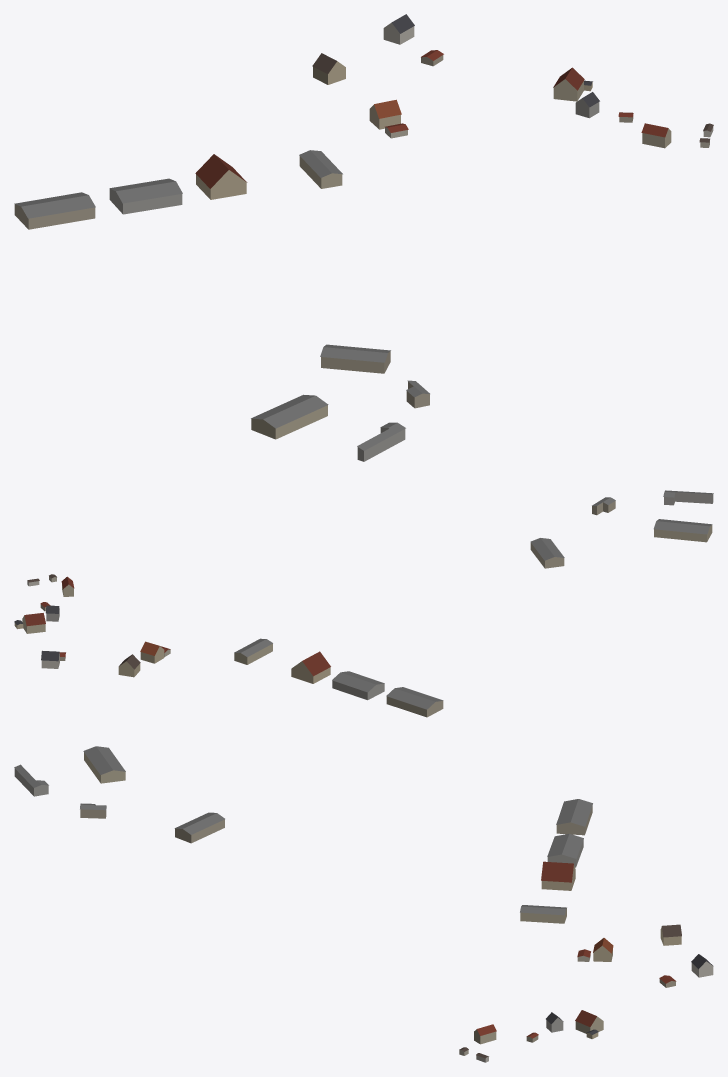
The picture shows the model from 3 angles, top to bottom: view 1: azimuth 30°, elevation 25°; view 2: azimuth 150°, elevation 25°; view 3: azimuth 270°, elevation 25°; orthographic projection. The views are drawn at different scales.
Parts seen in each view (by area): view 1: buildings; view 2: buildings; view 3: buildings.
Part boxes in pixels (left/top/right/bottom): buildings: left=14, top=14, right=713, bottom=461; buildings: left=14, top=490, right=713, bottom=717; buildings: left=14, top=746, right=713, bottom=1062.
Bounding box in the file's own units: 388 × 35.5 × 431.
